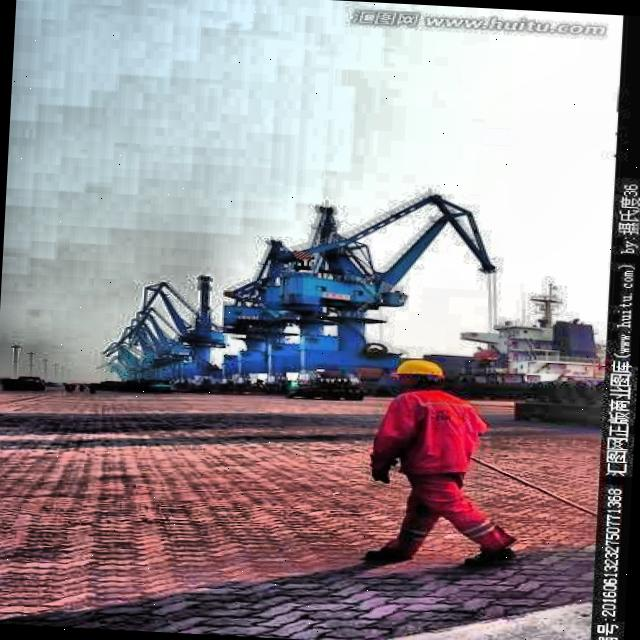helmet: (386, 354, 455, 396)
